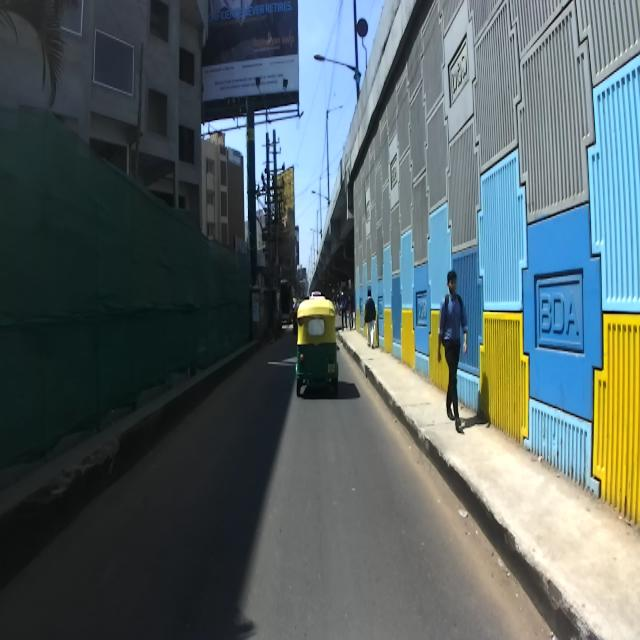auto ahead at: (294, 298, 341, 406)
person ahead at: (436, 268, 475, 430)
